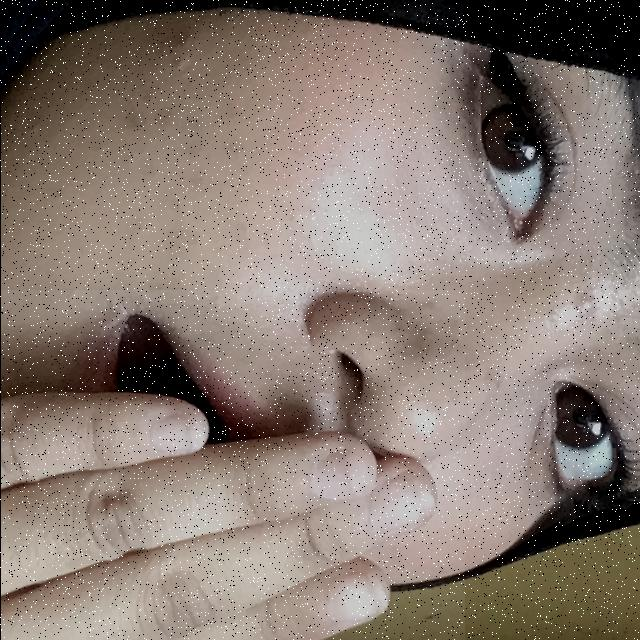ngantuk: (0, 290, 464, 640)
